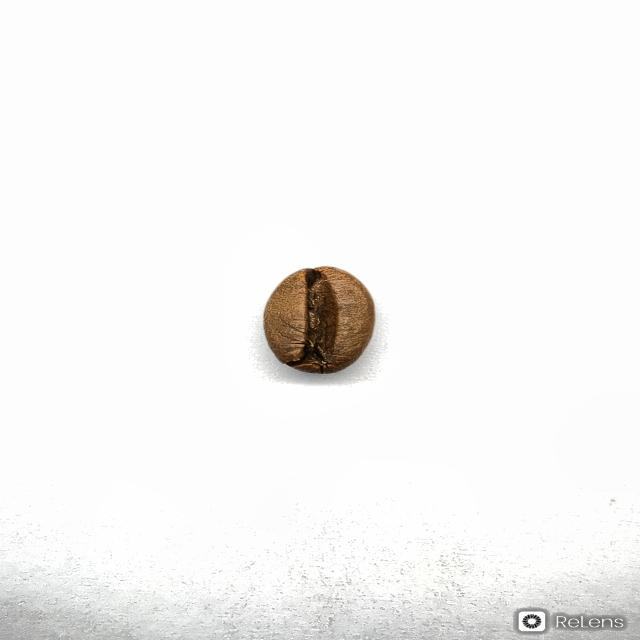Good bean: (262, 265, 376, 374)
